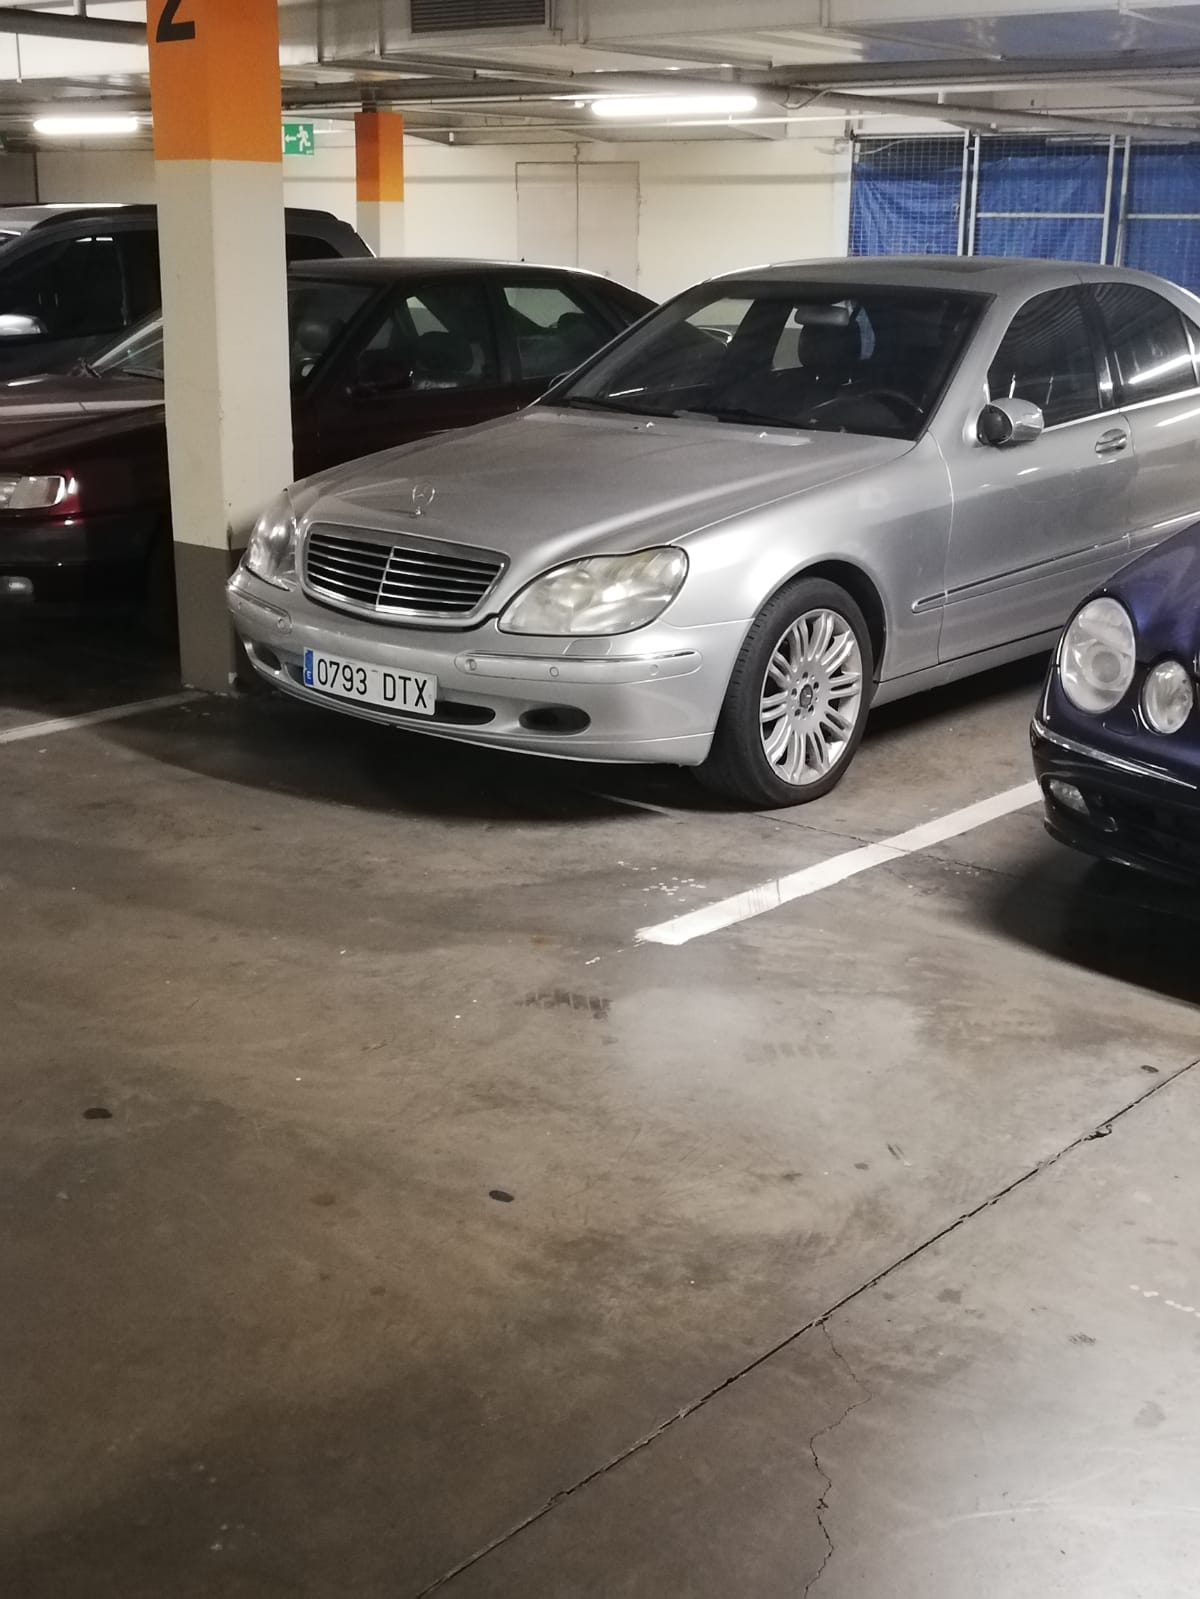Car: (229, 266, 1046, 808)
Plate: (305, 645, 443, 691)
